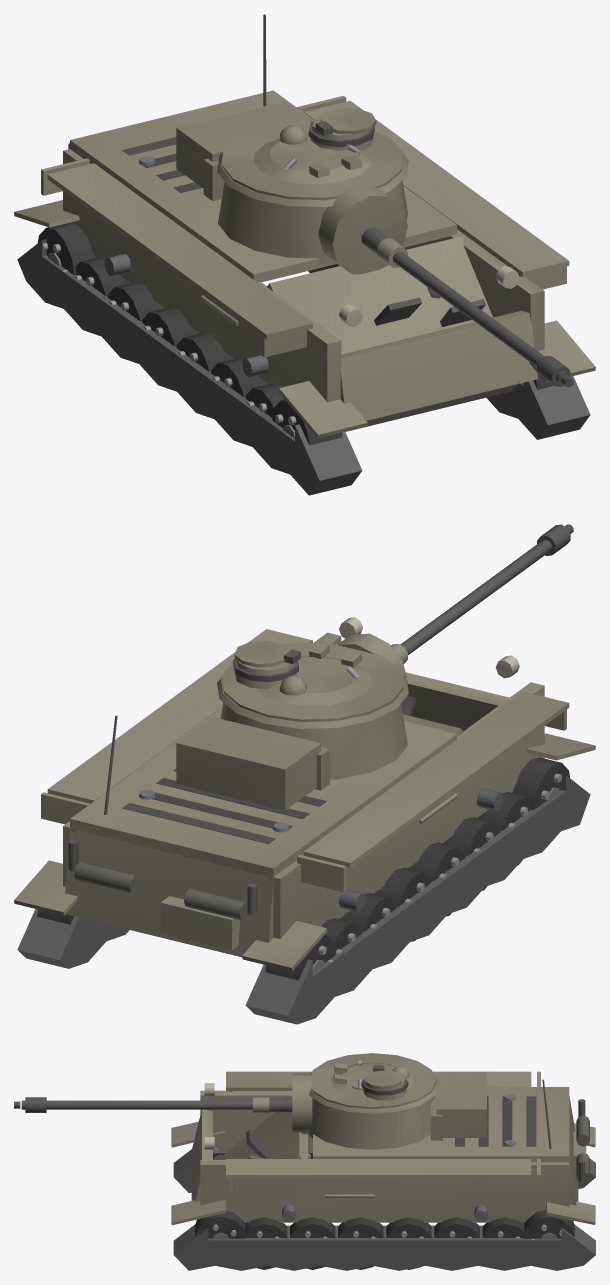
Rendered from firefly.glb.
3 renders of one model, top to bottom at view 1: azimuth 30°, elevation 25°; view 2: azimuth 150°, elevation 25°; view 3: azimuth 270°, elevation 25°, orthographic. The views are drawn at different scales.
Parts seen in each view (by area): view 1: hullSide, tracks, hullTop, glacis, lowerPlate, turretRoof, turretFront, mantlet, barrel, wheel7, turretSide, wheel1 (+7 smaller); view 2: hullSide, tracks, hullTop, hullRear, turretFront, turretRoof, lowerPlate, barrel, wheel6, turretSide, wheel3, wheel4 (+7 smaller); view 3: hullSide, tracks, hullTop, turretFront, turretRoof, barrel, glacis, hullRear, mantlet, lowerPlate, wheel14, wheel15 (+8 smaller).
Boxes of the visible parts, bbox=[...] form: hullSide: bbox=[41, 95, 569, 402]; tracks: bbox=[14, 200, 595, 495]; hullTop: bbox=[70, 90, 456, 282]; glacis: bbox=[267, 236, 517, 431]; lowerPlate: bbox=[340, 310, 537, 420]; turretRoof: bbox=[221, 108, 403, 200]; turretFront: bbox=[176, 101, 407, 264]; mantlet: bbox=[318, 185, 407, 274]; barrel: bbox=[361, 227, 573, 387]; wheel7: bbox=[37, 223, 95, 275]; turretSide: bbox=[217, 151, 408, 206]; wheel1: bbox=[107, 282, 164, 321]; hullSide: bbox=[41, 617, 569, 938]; tracks: bbox=[14, 733, 595, 1024]; hullTop: bbox=[70, 708, 456, 877]; hullRear: bbox=[65, 715, 274, 957]; turretFront: bbox=[176, 702, 407, 810]; turretRoof: bbox=[221, 641, 403, 721]; lowerPlate: bbox=[405, 672, 509, 730]; barrel: bbox=[391, 524, 573, 663]; wheel6: bbox=[512, 757, 569, 810]; turretSide: bbox=[217, 673, 408, 728]; wheel3: bbox=[408, 842, 465, 916]; wheel4: bbox=[443, 817, 500, 890]; hullSide: bbox=[200, 1071, 569, 1222]; tracks: bbox=[171, 1121, 595, 1270]; hullTop: bbox=[313, 1087, 569, 1162]; turretFront: bbox=[308, 1072, 486, 1149]; turretRoof: bbox=[311, 1053, 436, 1108]; barrel: bbox=[14, 1097, 292, 1113]; glacis: bbox=[218, 1112, 307, 1159]; hullRear: bbox=[542, 1079, 589, 1205]; mantlet: bbox=[292, 1073, 312, 1134]; lowerPlate: bbox=[191, 1109, 212, 1202]; wheel14: bbox=[195, 1210, 246, 1239]; wheel15: bbox=[523, 1210, 574, 1239].
Size of the model in its own units: 3.9 by 3.03 by 9.31.
